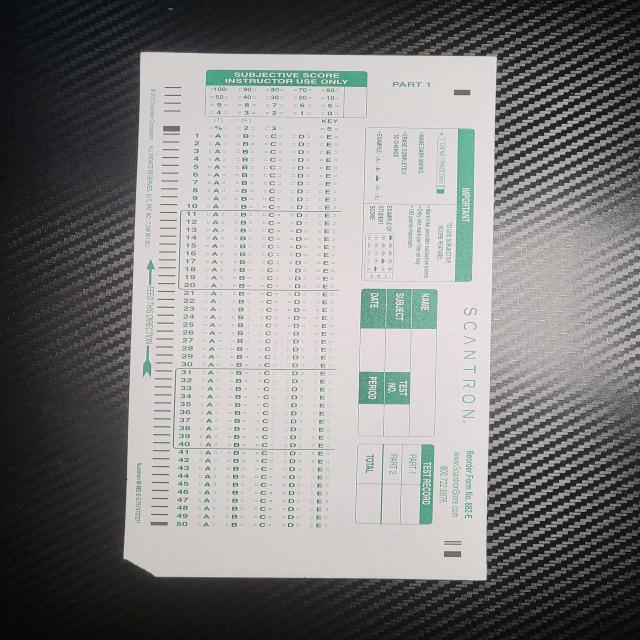scantron: (124, 52, 497, 581)
